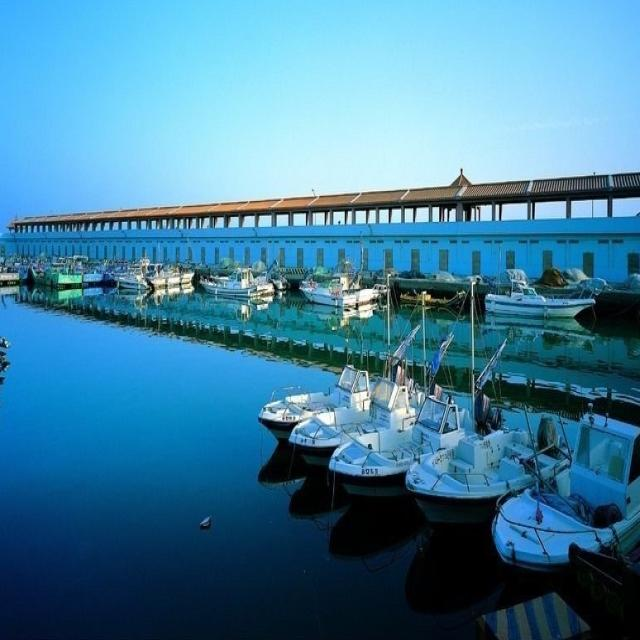houseboat: (488, 413, 640, 579), (404, 400, 546, 520), (326, 391, 464, 512), (279, 372, 427, 482), (246, 361, 360, 441), (488, 268, 594, 318), (310, 264, 385, 322), (211, 267, 274, 309), (129, 266, 193, 299)
